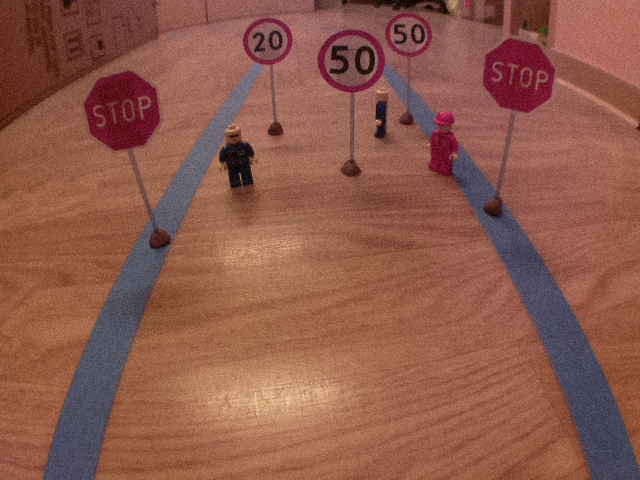LEGO_person: (215, 122, 263, 191), (424, 108, 461, 181), (371, 85, 392, 141)
ogr_20: (241, 16, 295, 67)
ogr_50: (316, 26, 388, 95), (383, 11, 434, 59)
stop: (80, 66, 168, 155), (477, 32, 561, 118)
